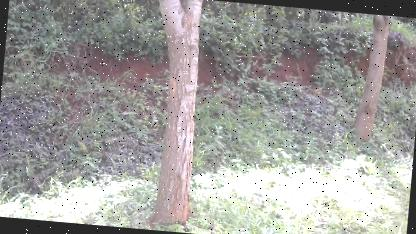tree: (133, 0, 214, 232), (351, 13, 396, 144)
